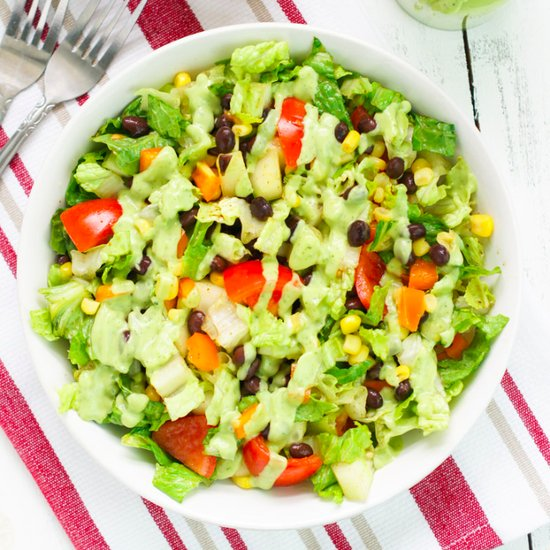chopped lettuce: (80, 96, 469, 461)
